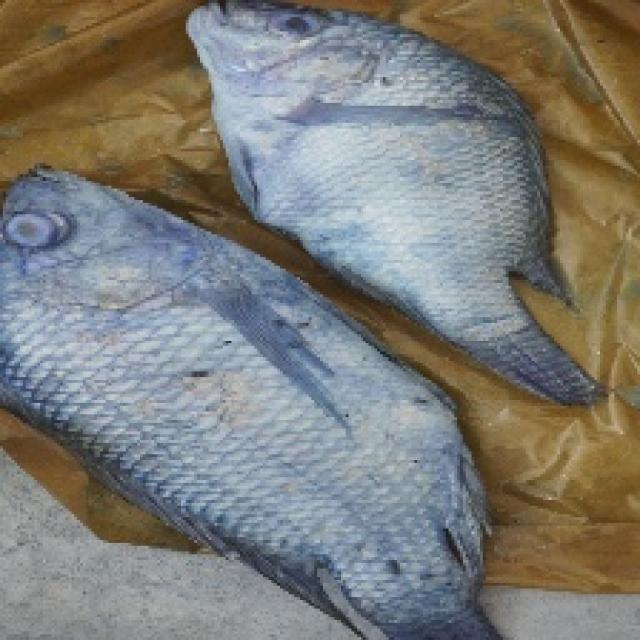Non-Fresh: (3, 179, 493, 640)
